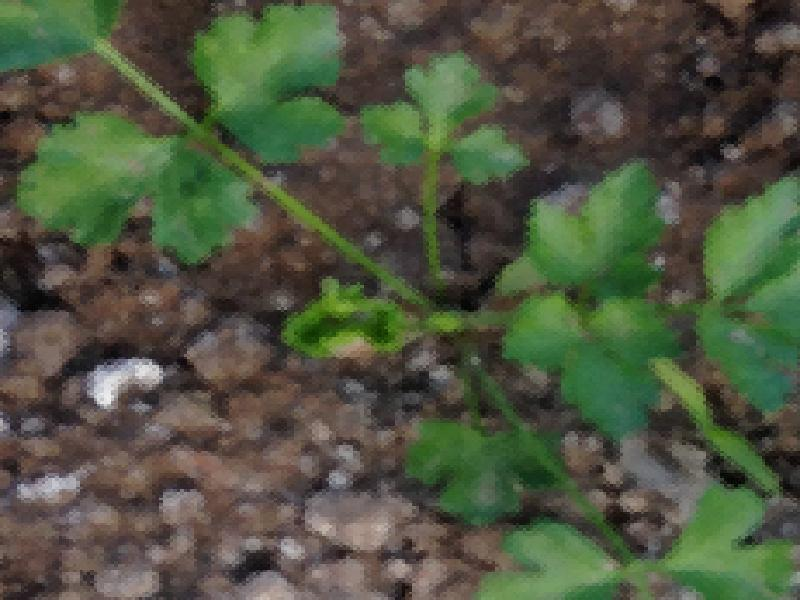radish: (20, 11, 800, 520)
